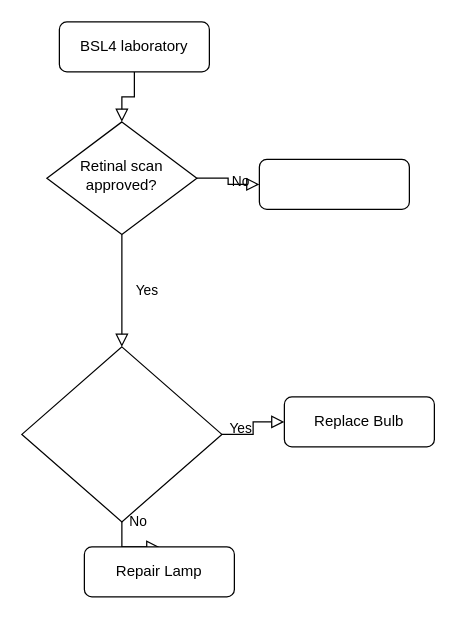
Some shapes in this 456 by 619 pixel diagram are drawn without their labels. Here are the shapes that lost their labels. From the top down, the box of each, then its label:
(258, 158, 409, 209): The invidual can not enter the facility
(21, 346, 222, 522): The individual has jewerly and other accesories?
